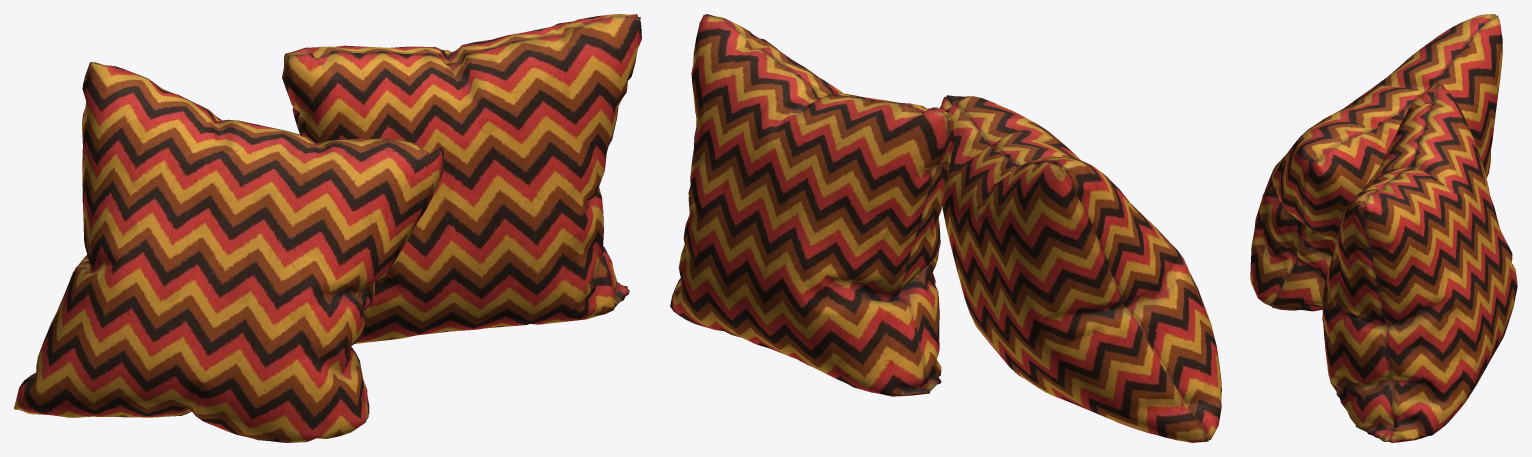
The model's file is throw_pillows_01.glb.
3 renders of one model, left to right at view 1: azimuth 30°, elevation 25°; view 2: azimuth 150°, elevation 25°; view 3: azimuth 270°, elevation 25°, orthographic. The views are drawn at different scales.
Visible parts, largest first — view 1: throw_pillows_01_pillow02; view 2: throw_pillows_01_pillow02; view 3: throw_pillows_01_pillow02.
Part boxes in pixels (x1=…): throw_pillows_01_pillow02: x1=14, y1=14, x2=641, y2=442; throw_pillows_01_pillow02: x1=670, y1=14, x2=1221, y2=442; throw_pillows_01_pillow02: x1=1250, y1=14, x2=1517, y2=442.
Bounding box in the file's own units: 0.9401 × 0.4502 × 0.4518.
1 material, 1 textured.
